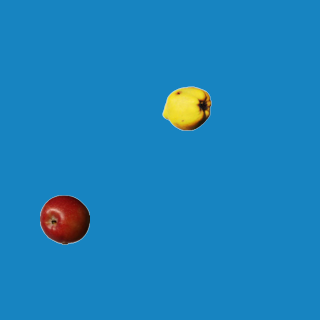Apple Braeburn: (39, 194, 89, 244)
Quince: (161, 83, 211, 133)
